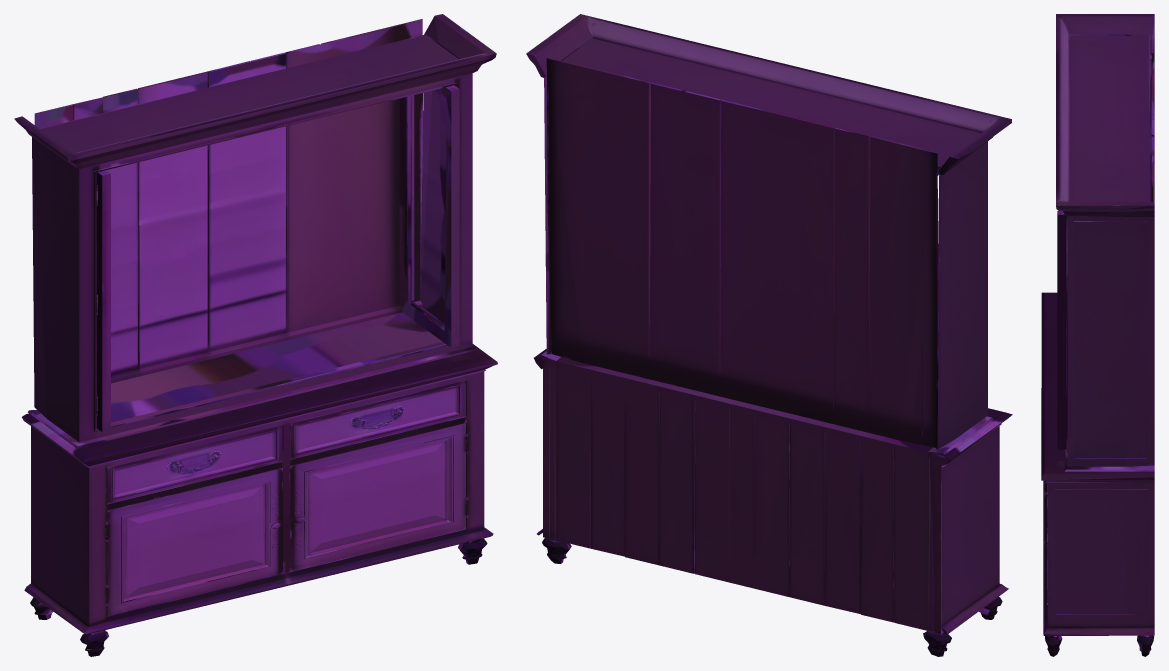
File: edited_mesh.glb
3 renders of one model, left to right at view 1: azimuth 30°, elevation 25°; view 2: azimuth 150°, elevation 25°; view 3: azimuth 270°, elevation 25°, orthographic. The views are drawn at different scales.
Parts seen in each view (by area): view 1: solid_001_wire; view 2: solid_001_wire; view 3: solid_001_wire.
Boxes of the visible parts, x1=… form: solid_001_wire: x1=14, y1=14, x2=497, y2=656; solid_001_wire: x1=526, y1=14, x2=1012, y2=656; solid_001_wire: x1=1041, y1=14, x2=1154, y2=656.
Bounding box in the file's own units: 1.23 × 1.38 × 0.3083.
Materials: 1 (1 with a texture image).
